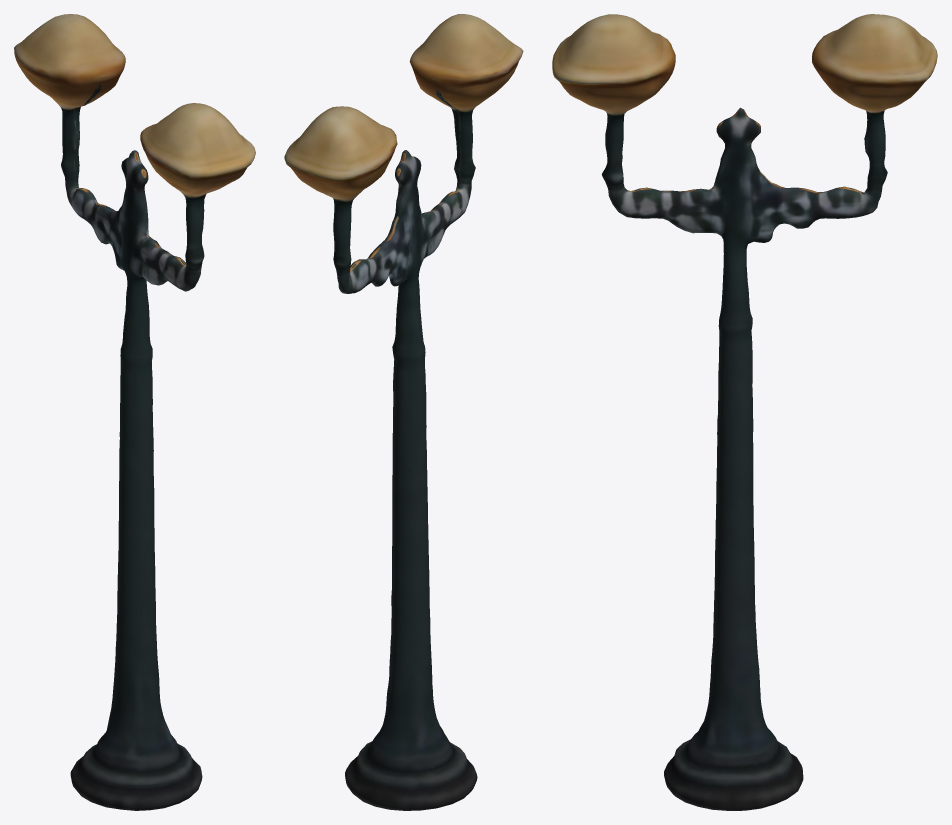
The model's file is c26056a48278_666d71d60755_shell_streetlights_.glb.
3 renders of one model, left to right at view 1: azimuth 30°, elevation 25°; view 2: azimuth 150°, elevation 25°; view 3: azimuth 270°, elevation 25°, orthographic. The views are drawn at different scales.
Visible parts, largest first — view 1: mesh; view 2: mesh; view 3: mesh.
Boxes of the visible parts, bbox=[...] form: mesh: bbox=[14, 14, 255, 810]; mesh: bbox=[284, 14, 523, 810]; mesh: bbox=[552, 14, 937, 810].
Bounding box in the file's own units: 0.1639 × 0.9998 × 0.453.
Materials: 1 (1 with a texture image).
